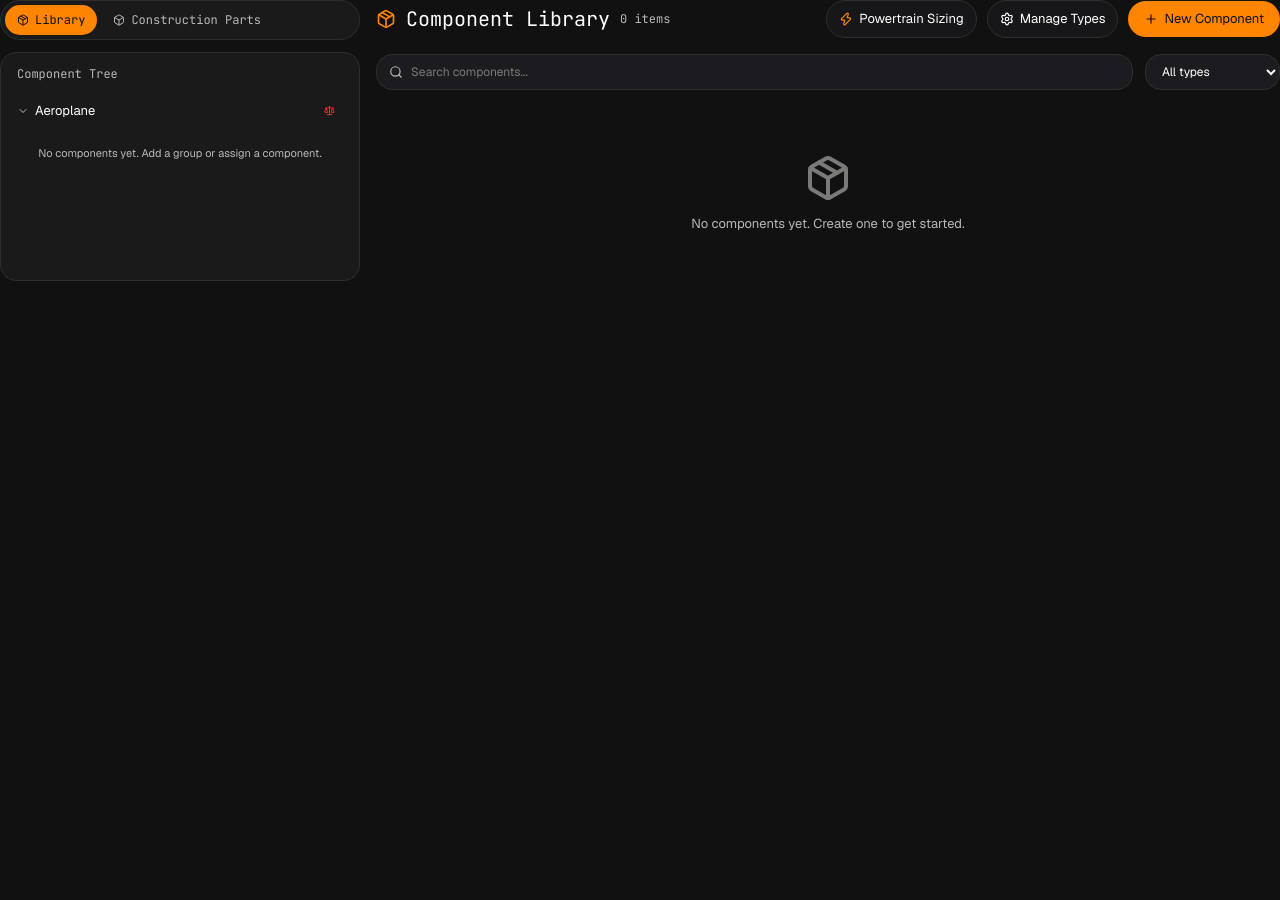
Test: ComponentsPage — '+ New Component' dialog › opens the create dialog when '+ New Component' is clicked
The image size is (1280, 900).
Click the button "New Component".
click(1204, 19)  # box [1128, 1, 1279, 36]
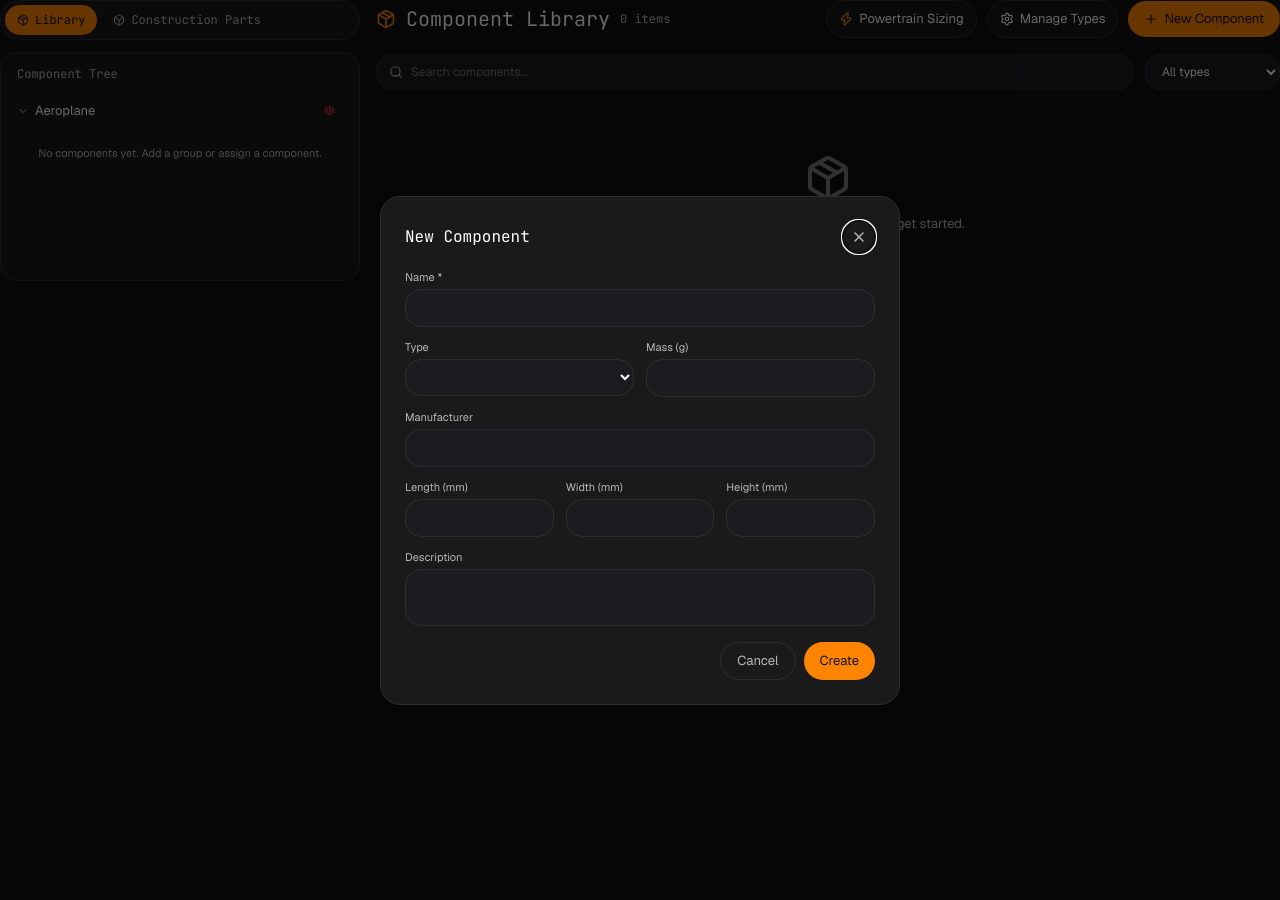
Now the dialog named "New Component" is shown, box [380, 196, 900, 704]
